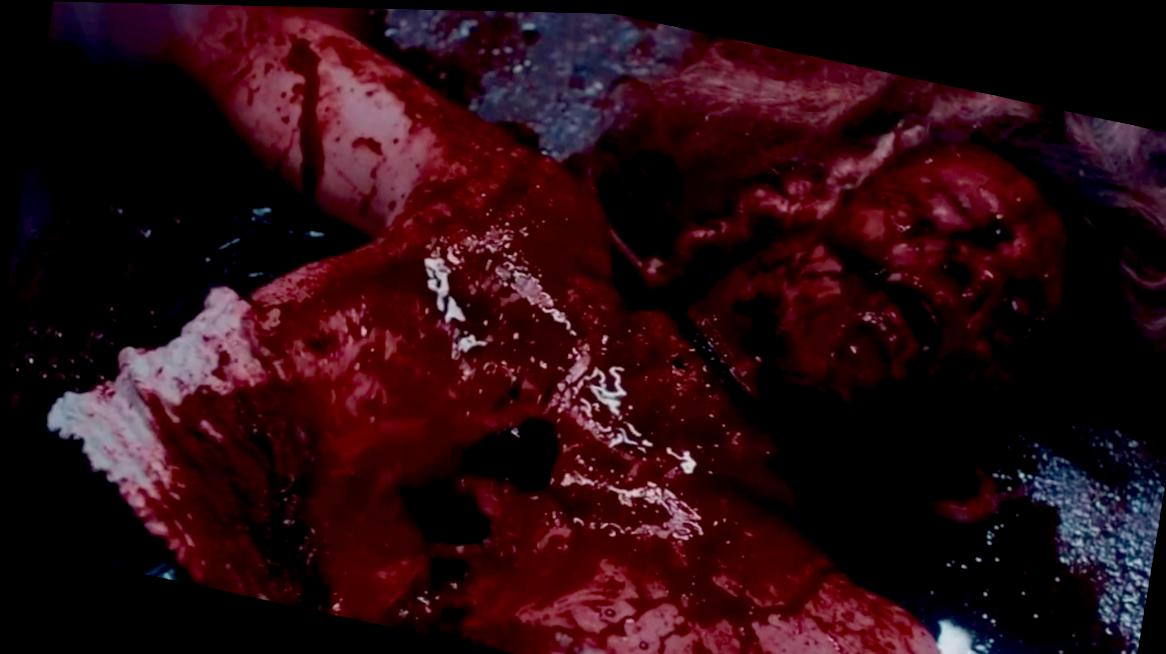Fire: (6, 1, 1166, 654)
